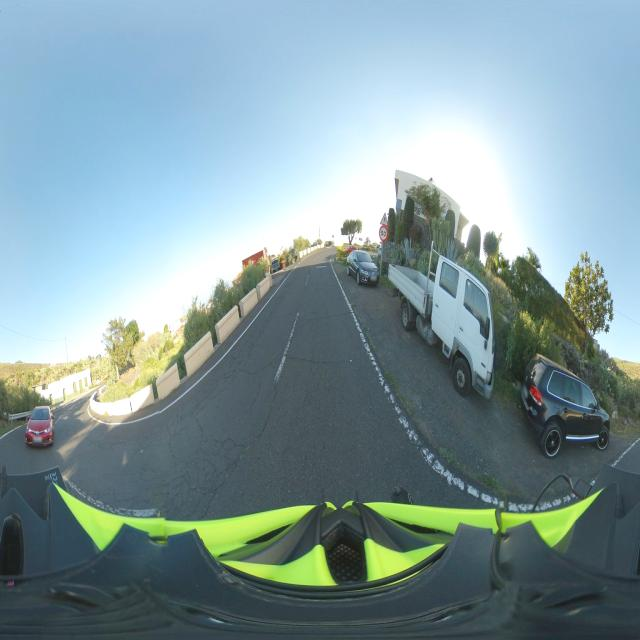car: (394, 253, 496, 402), (520, 357, 610, 457), (25, 405, 55, 449), (349, 249, 380, 287), (270, 258, 283, 274)
